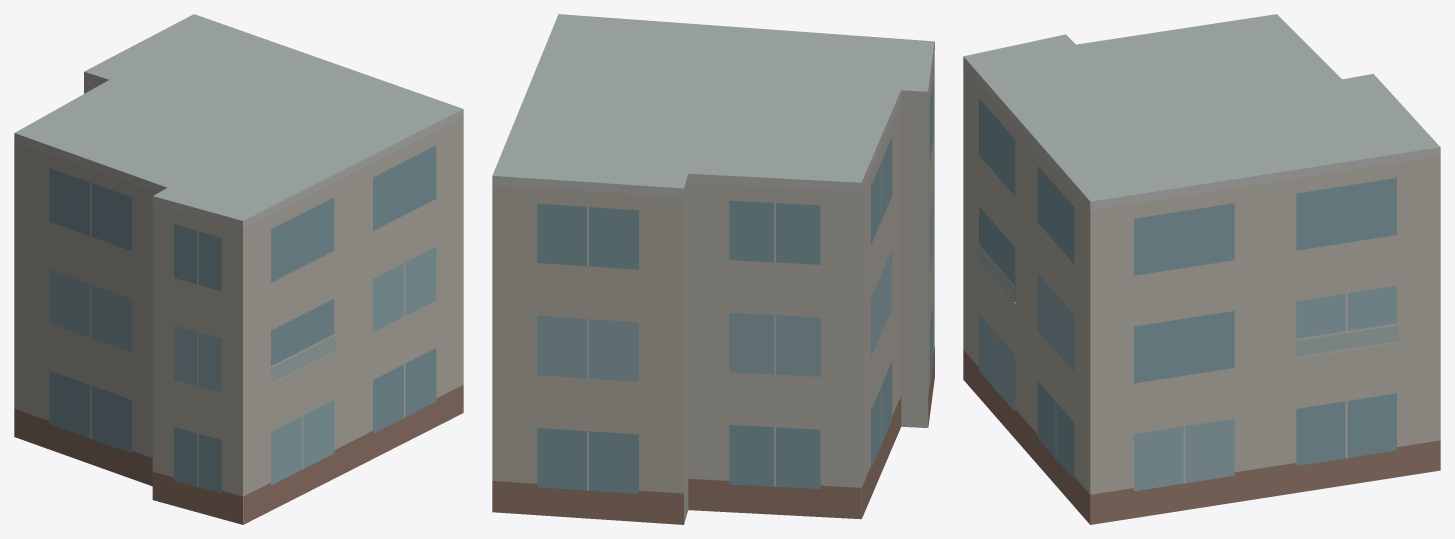
Rendered from survey-upis-32994853.glb.
The picture shows the model from 3 angles, left to right: view 1: azimuth 30°, elevation 25°; view 2: azimuth 150°, elevation 25°; view 3: azimuth 270°, elevation 25°; orthographic projection. The views are drawn at different scales.
Parts seen in each view (by area): view 1: survey-upis-32994853.tmp; view 2: survey-upis-32994853.tmp; view 3: survey-upis-32994853.tmp.
Part boxes in pixels (left/top/right/bottom): survey-upis-32994853.tmp: left=14, top=14, right=463, bottom=524; survey-upis-32994853.tmp: left=492, top=14, right=934, bottom=524; survey-upis-32994853.tmp: left=963, top=14, right=1440, bottom=524.
Bounding box in the file's own units: 11.4 × 9.15 × 12.25.
